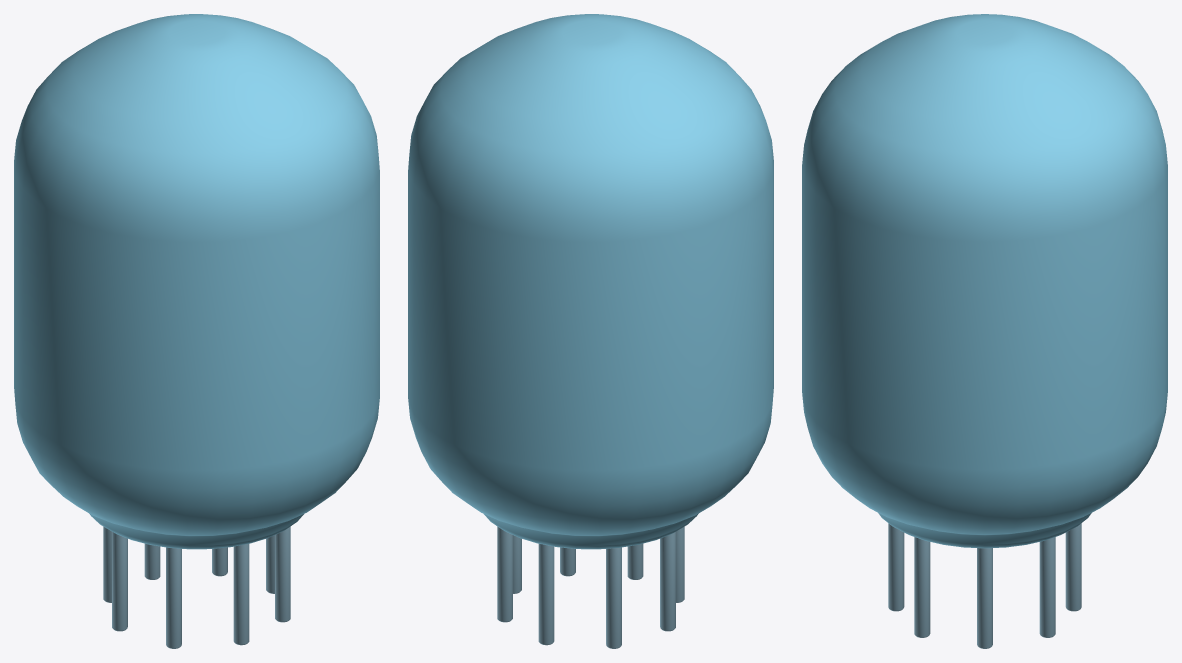
The model's file is 1946_vacuum_tube.fbx.
3 views of the same model, side by side, from view 1: azimuth 30°, elevation 25°; view 2: azimuth 150°, elevation 25°; view 3: azimuth 270°, elevation 25° (orthographic).
Visible parts, largest first — view 1: Cylinder; view 2: Cylinder; view 3: Cylinder.
Part boxes in pixels (<box>): Cylinder: <box>14,14,379,648</box>; Cylinder: <box>408,14,773,648</box>; Cylinder: <box>802,14,1167,648</box>.
Bounding box in the file's own units: 254 × 442 × 254.
